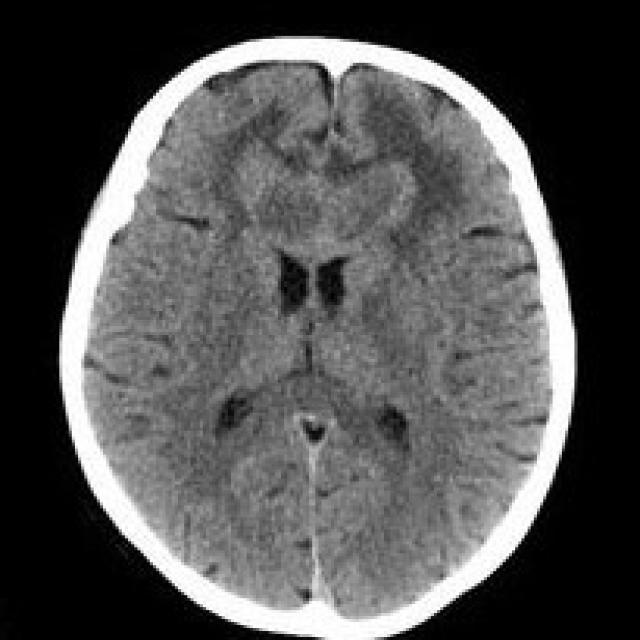No_Tumor: (60, 38, 573, 639)
